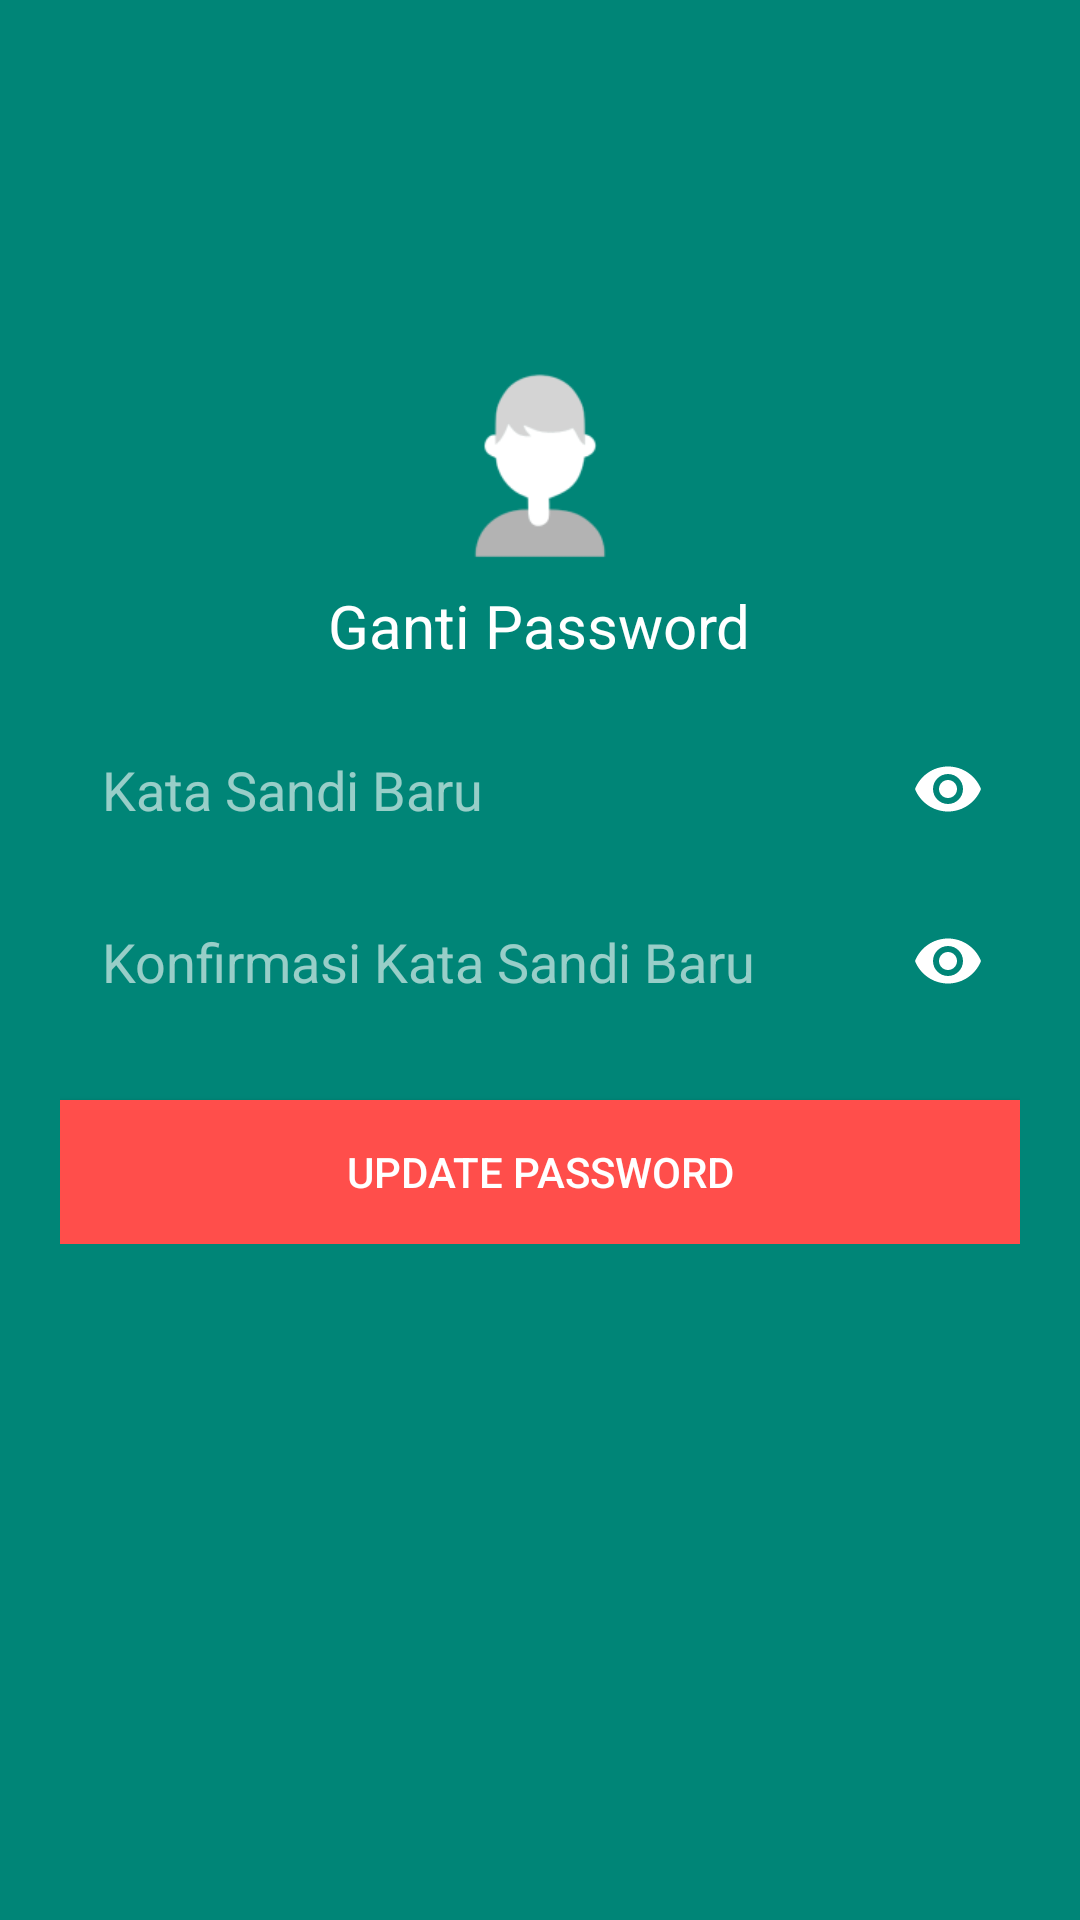

Where to tap for icons on this 1080 × 1920 app screen, as (x=x, y=y):
admin: (x=540, y=465)
